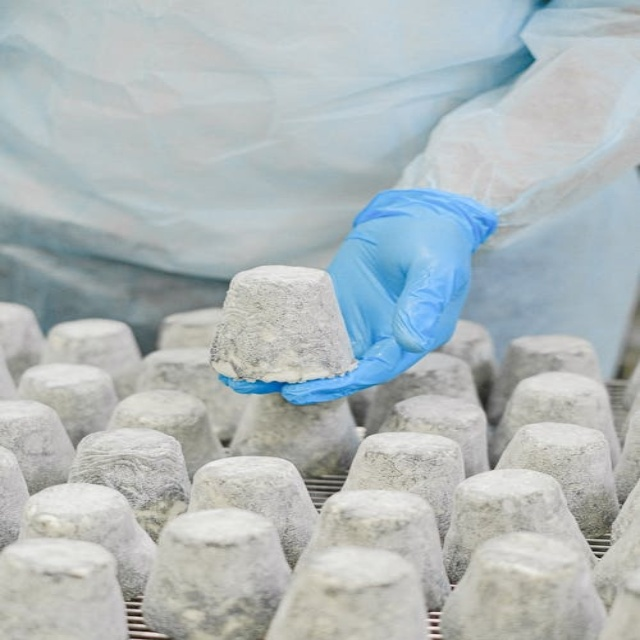Guantes: (198, 183, 512, 409)
